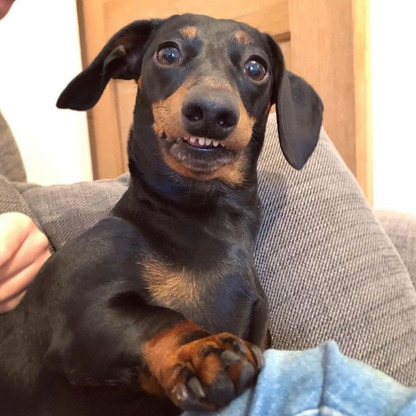dachshund: (57, 4, 329, 411)
